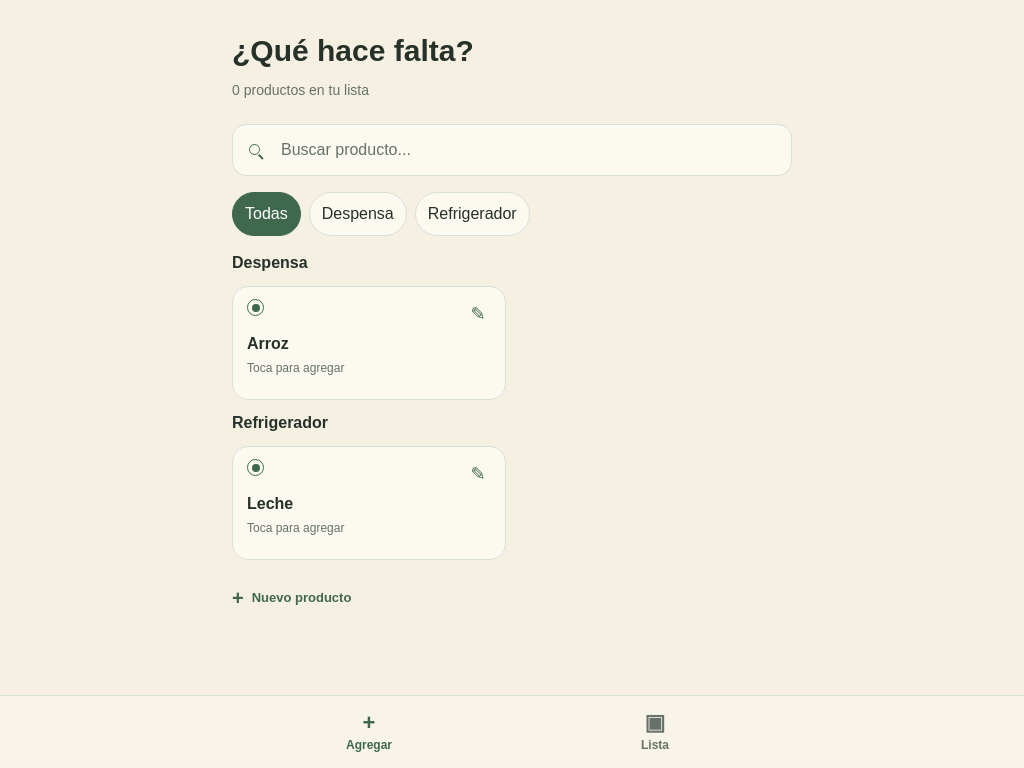
Scenario: catálogo y lista pendiente › añade con un toque y actualiza el contador
The width and height of the screenshot is (1024, 768).
Expected: the link with aria-label "Lista (0)" is shown, x1=641 y1=710 x2=669 y2=752
Click the button "Leche Toca para agregar".
click(270, 504)  # box x1=233 y1=447 x2=505 y2=559
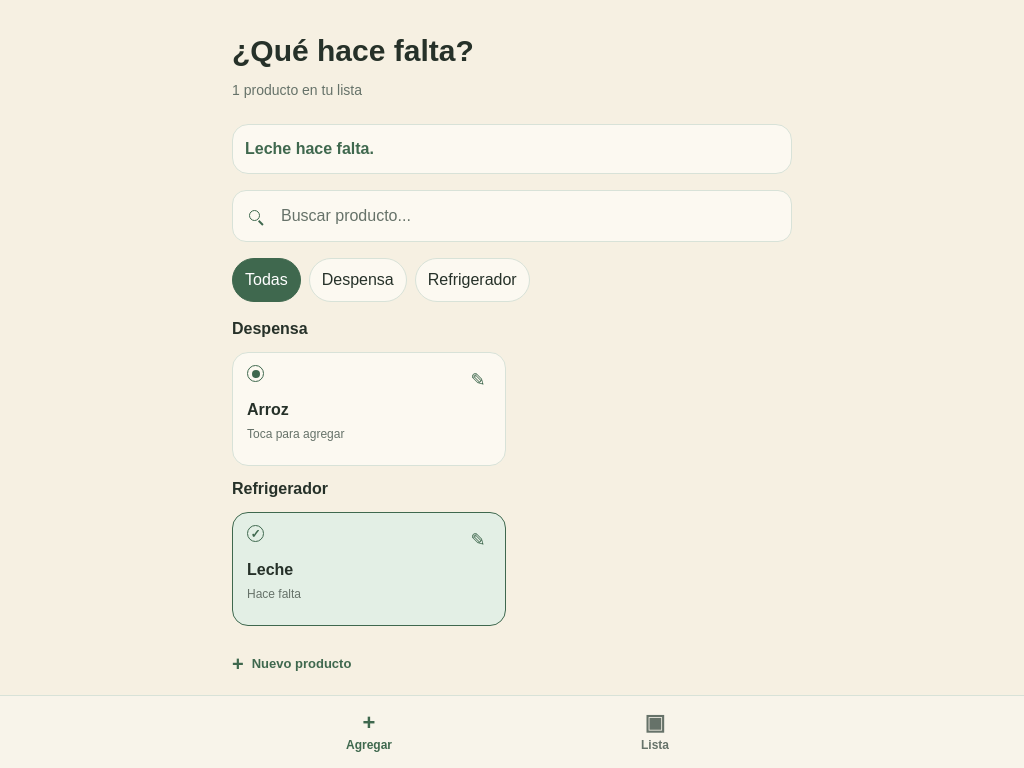
Expected: the link with aria-label "Lista (1)" is shown, x1=641 y1=710 x2=669 y2=752
Now the button "✓ Leche Hace falta" is shown, box x1=233 y1=513 x2=505 y2=625
